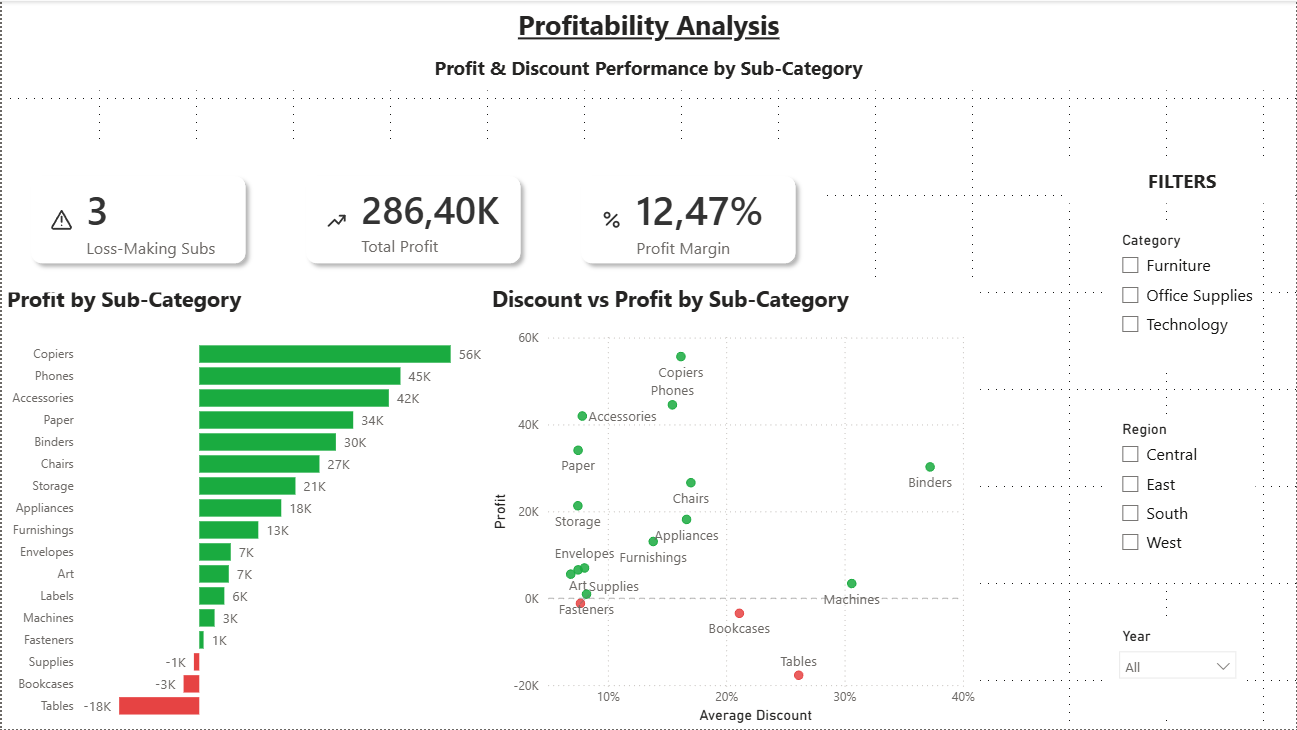

What the dashboard file says about the page in this screenshot:
{"tool":"powerbi","page":{"name":"Profitability Analysis","canvas":[1280,720],"ordinal":1},"visuals":[{"type":"barChart","title":"Profit by Sub-Category","fields":{"Category":["Orders.Sub-Category"],"Y":["Date.Total Profit"]},"box":[0,280,480,440],"z":0},{"type":"cardVisual","fields":{"Data":["Date.Loss-Making Sub-Categories"]},"box":[0,144,270,144],"z":1000},{"type":"cardVisual","fields":{"Data":["Date.Total Profit"]},"box":[272,144,270,144],"z":2000},{"type":"cardVisual","fields":{"Data":["Date.Profit Margin"]},"box":[544,144,270,144],"z":3000},{"type":"scatterChart","title":"Discount vs Profit by Sub-Category","fields":{"X":["Avg(Orders.Discount)"],"Y":["Sum(Orders.Profit)"],"Category":["Orders.Sub-Category"]},"box":[480,280,488,440],"z":4000},{"type":"slicer","fields":{"Values":["Orders.Category"]},"box":[1096,224,152,144],"z":5000},{"type":"slicer","fields":{"Values":["Orders.Region"]},"box":[1096,410.9,144.5,162.3],"z":6000},{"type":"slicer","fields":{"Values":["Date.Year"]},"box":[1096,616,136,96],"z":7000},{"type":"textbox","box":[0,0,1280,56],"z":8000},{"type":"textbox","box":[0,48,1280,40],"z":9000},{"type":"textbox","box":[1056,160,224,40],"z":10000}]}

Visuals, with their boxes in screenshot pixels (x1, y1, x2, y2), scaled from the page's 1280x720 canvas onto the 1297x730 screenshot:
"Profit by Sub-Category" barChart: (x1=0, y1=284, x2=486, y2=729)
cardVisual - Date.Loss-Making Sub-Categories: (x1=0, y1=146, x2=274, y2=292)
cardVisual - Date.Total Profit: (x1=276, y1=146, x2=549, y2=292)
cardVisual - Date.Profit Margin: (x1=551, y1=146, x2=825, y2=292)
"Discount vs Profit by Sub-Category" scatterChart: (x1=486, y1=284, x2=981, y2=729)
slicer - Orders.Category: (x1=1111, y1=227, x2=1265, y2=373)
slicer - Orders.Region: (x1=1111, y1=417, x2=1257, y2=581)
slicer - Date.Year: (x1=1111, y1=625, x2=1248, y2=722)
textbox: (x1=0, y1=0, x2=1296, y2=57)
textbox: (x1=0, y1=49, x2=1296, y2=89)
textbox: (x1=1070, y1=162, x2=1296, y2=203)
